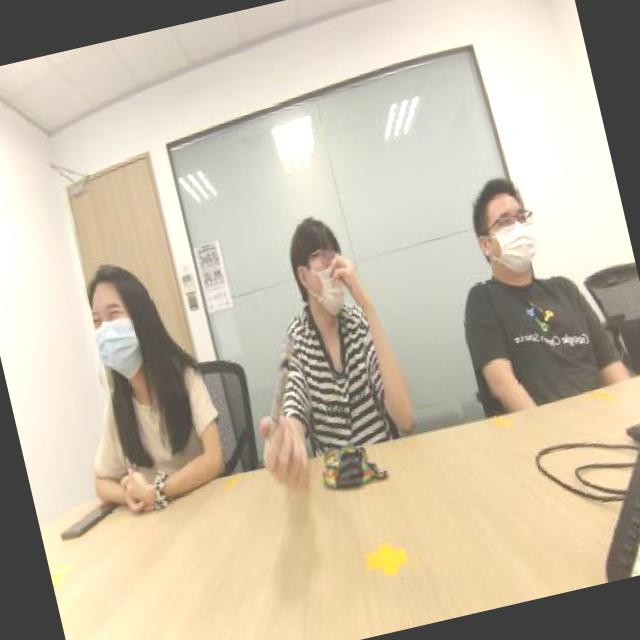Person: (416, 132, 638, 410), (223, 146, 420, 458), (61, 214, 228, 475)
